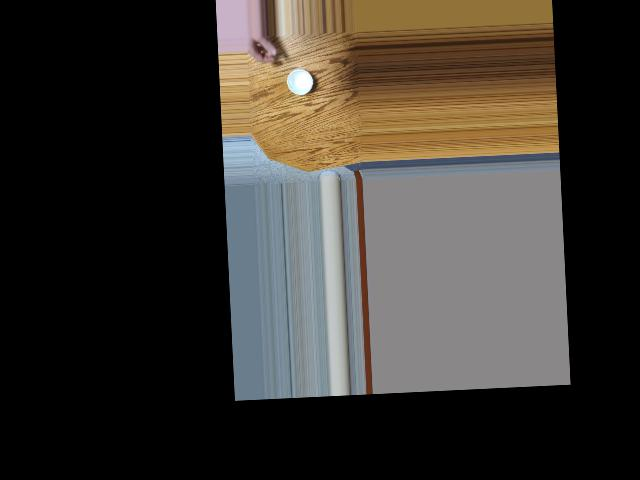cotage: (282, 62, 312, 97)
